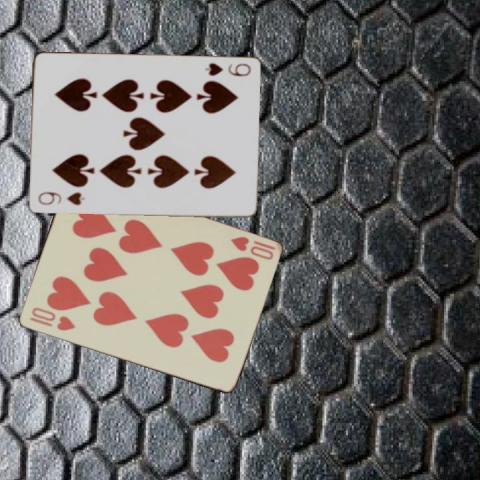10h: (26, 304, 77, 333), (227, 233, 277, 262)
9s: (35, 189, 86, 207), (202, 61, 252, 78)
